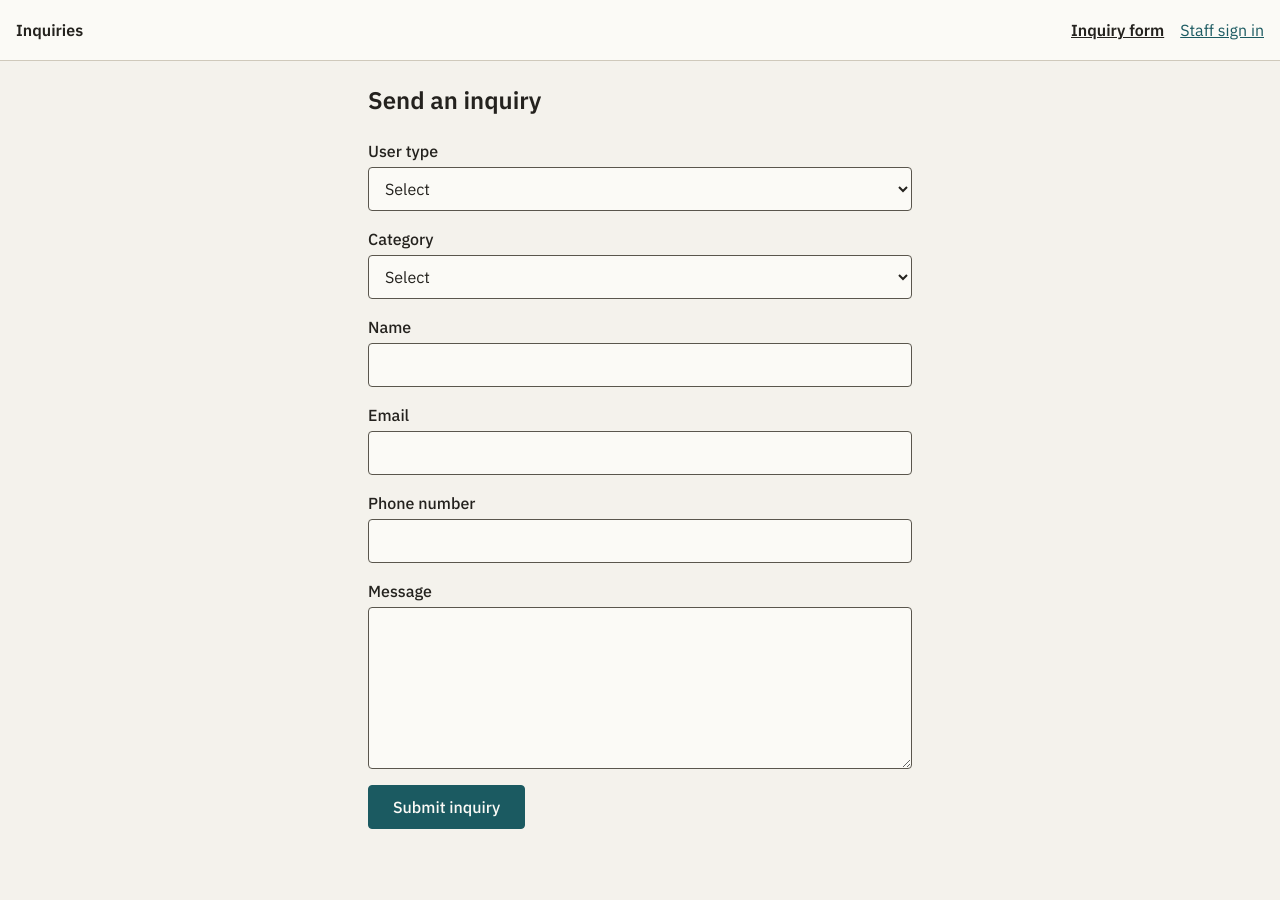
Test: inquiry form › shows a network error
Select "Parent" in the dropdown labelled "User type": (640, 189) [368,167,912,211]
Select "Admission" in the dropdown labelled "Category": (640, 277) [368,255,912,299]
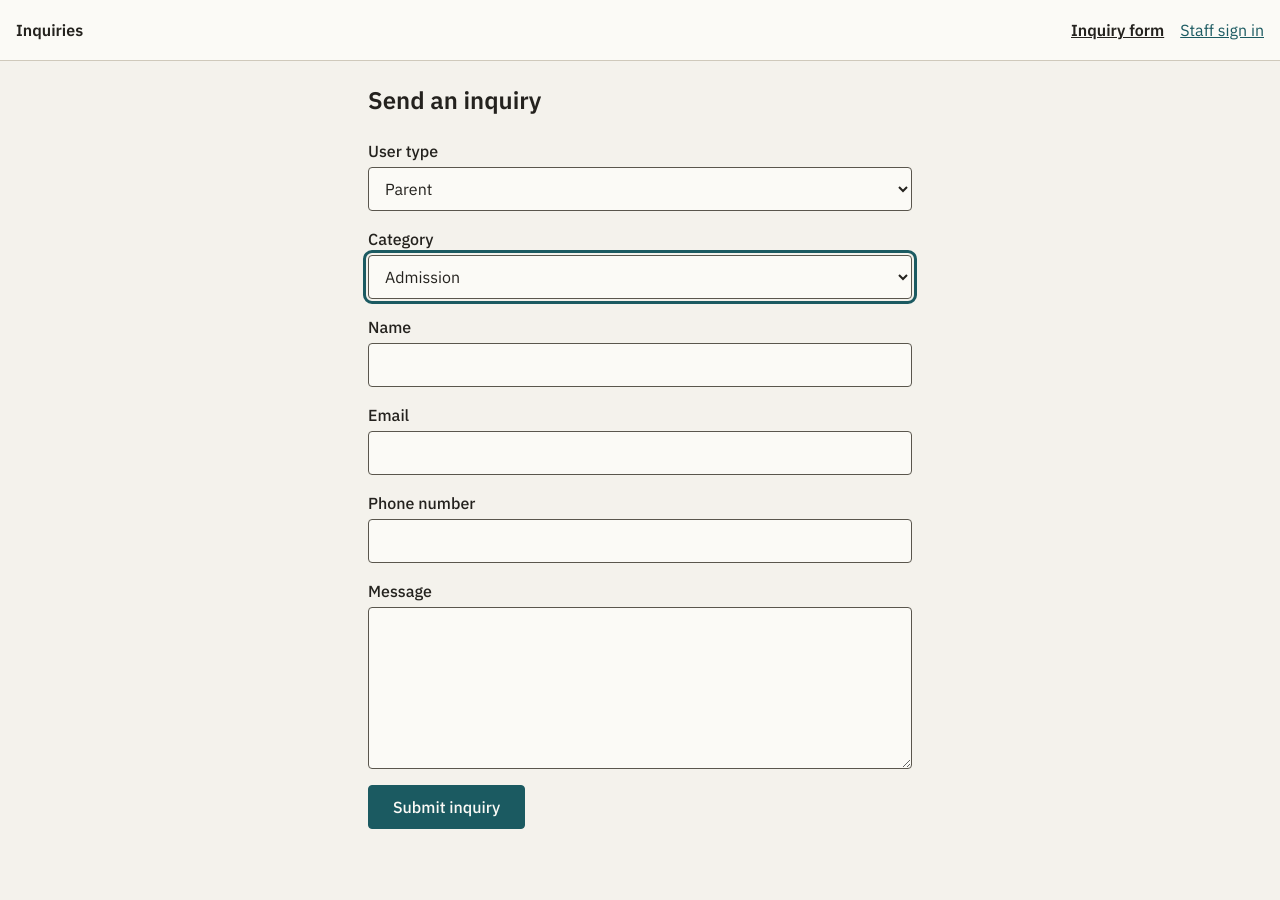
In the field labelled "Name": (640, 365) [368,343,912,387], type "Asha Verma"
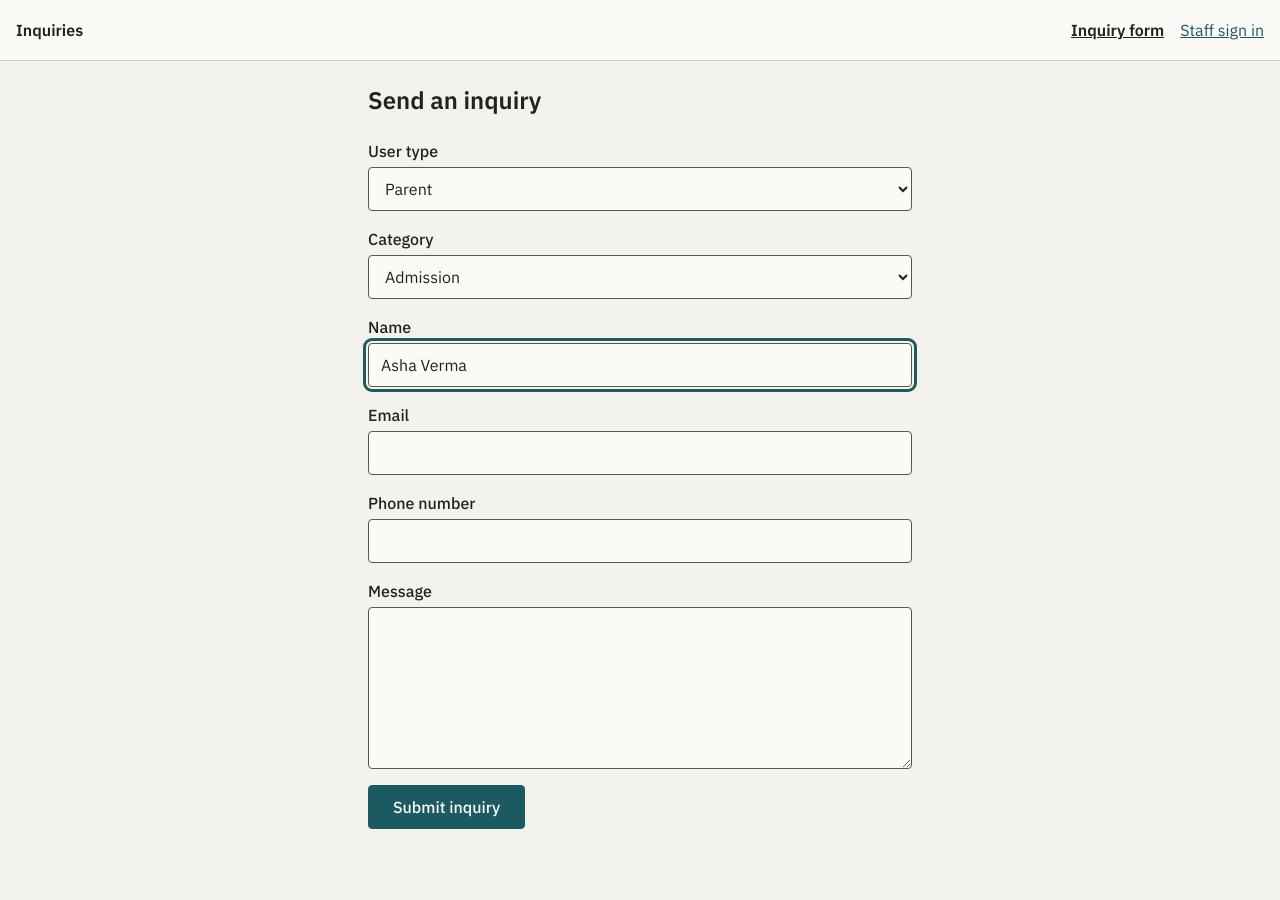
In the field labelled "Email": (640, 453) [368,431,912,475], type "asha@example.com"
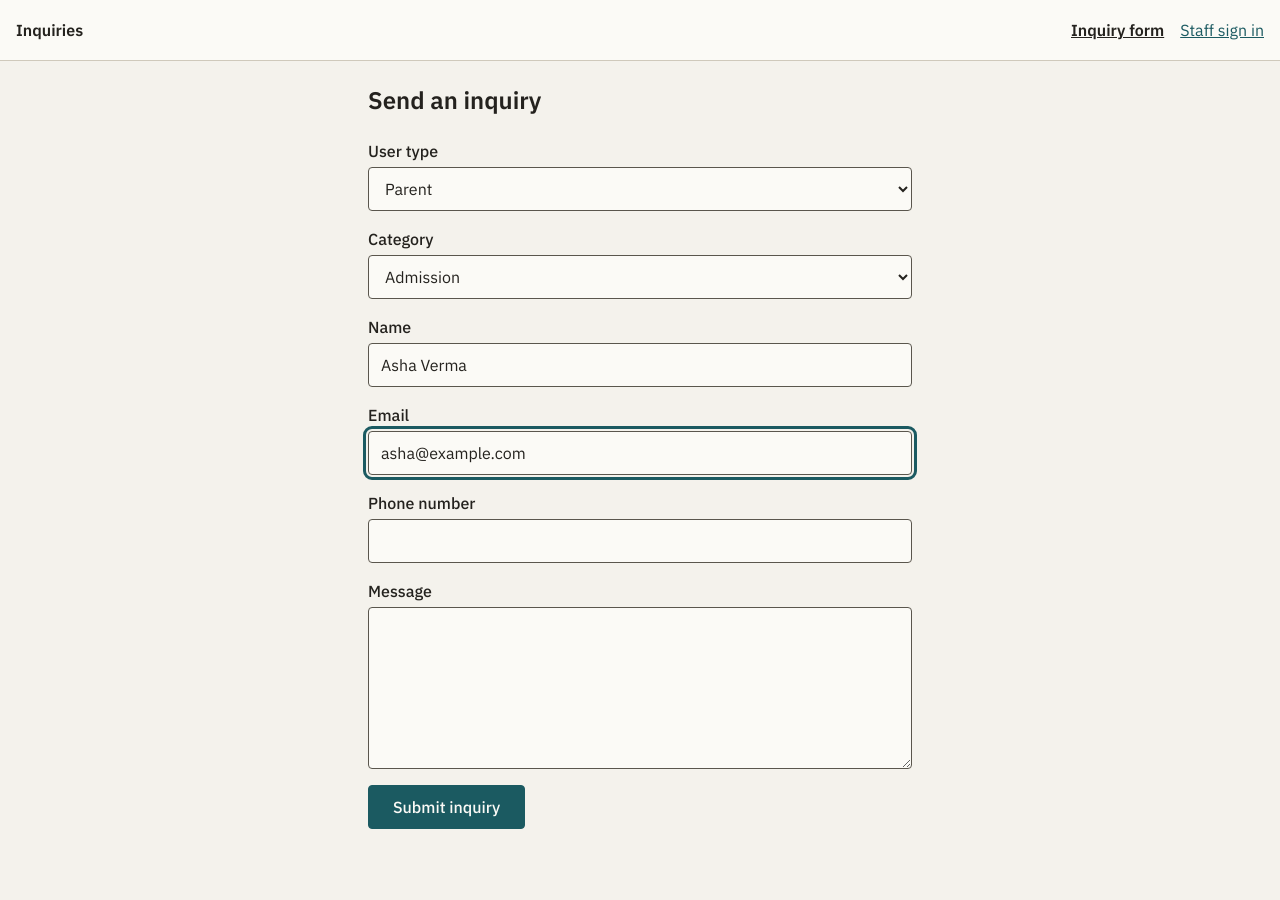
In the field labelled "Phone number": (640, 541) [368,519,912,563], type "98765 43210"
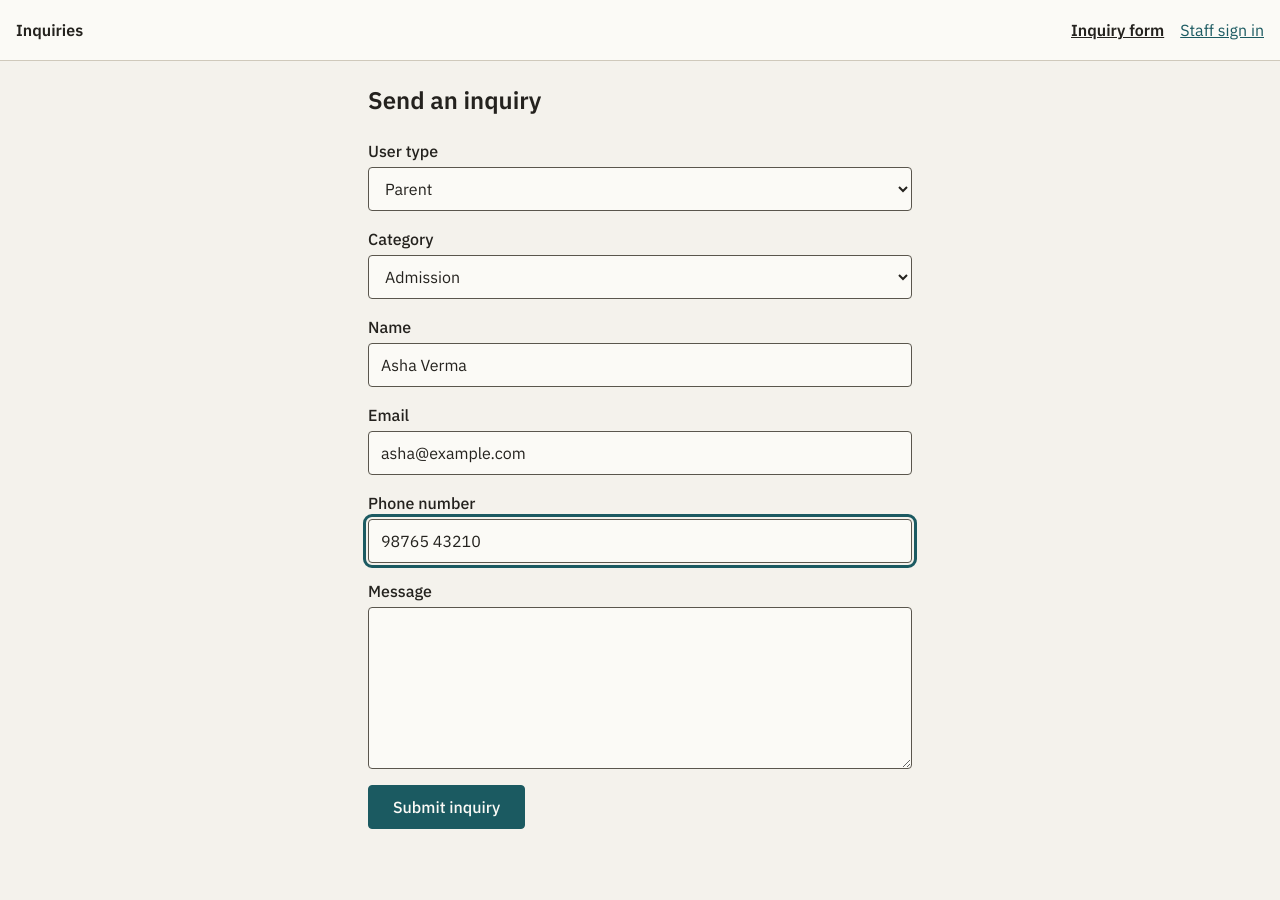
In the text box labelled "Message": (640, 688) [368,607,912,769], type "Please share the admission dates."
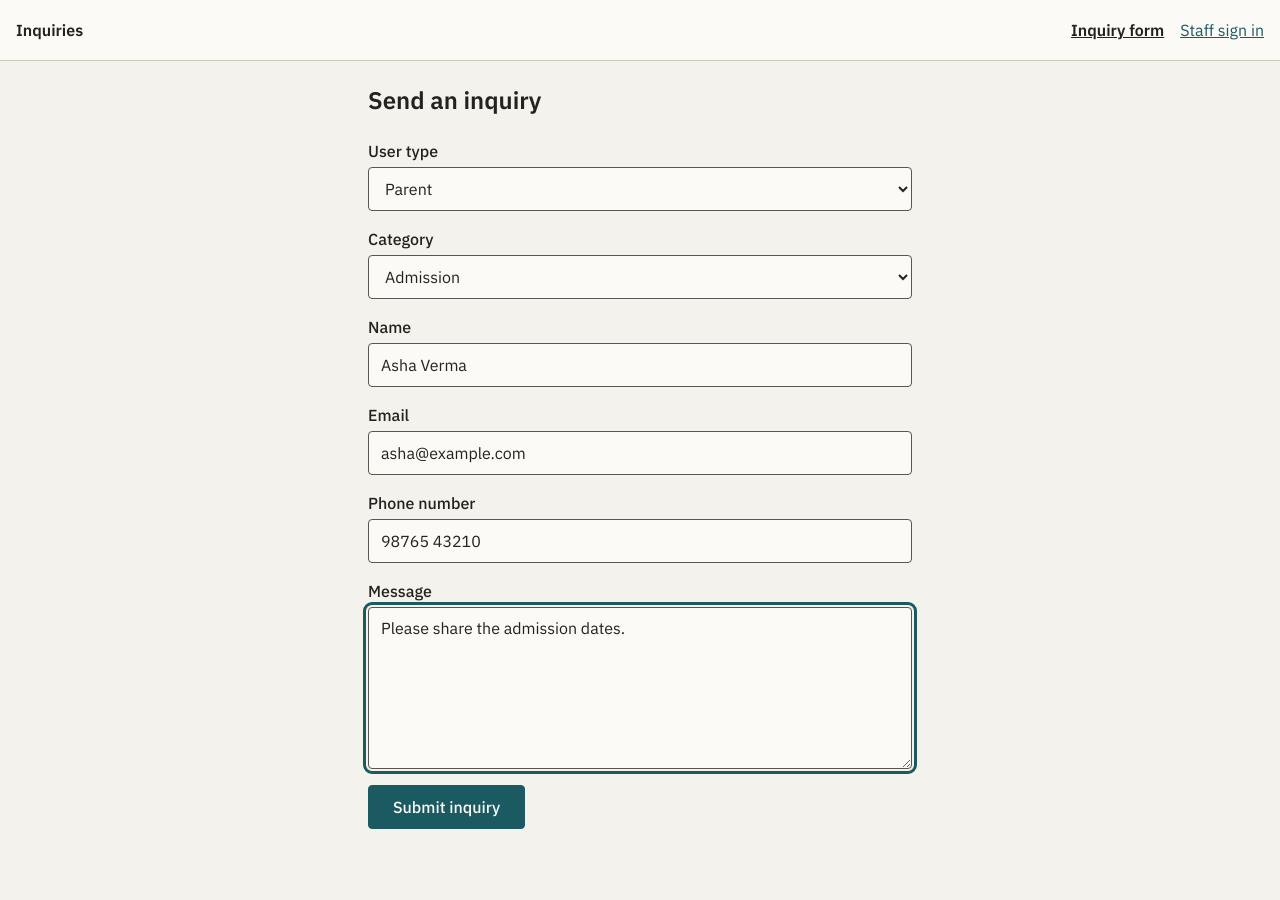
Click the button "Submit inquiry": click(447, 807) [368,785,525,829]
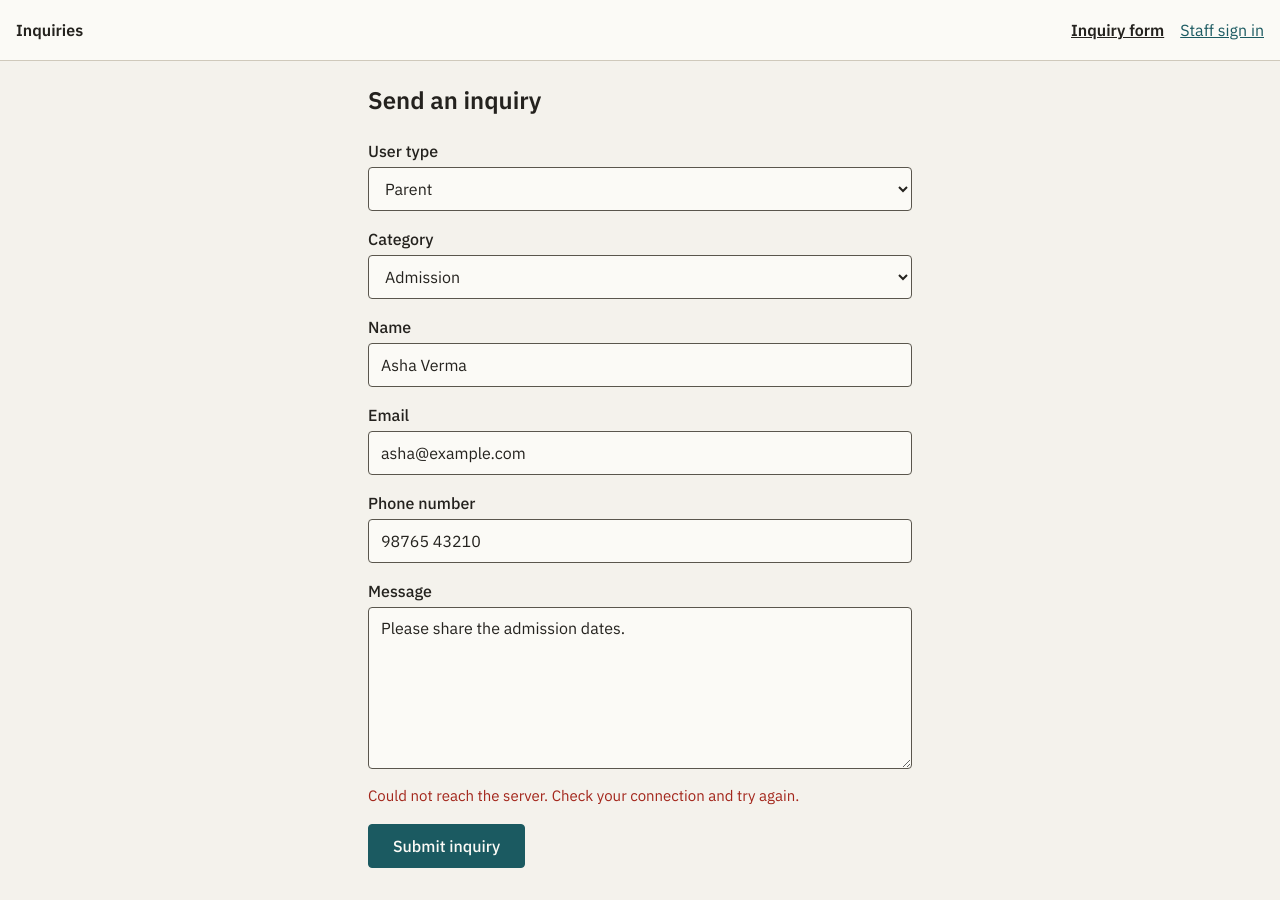
Check: the message shows "Could not reach the server", box [368,786,799,805]
